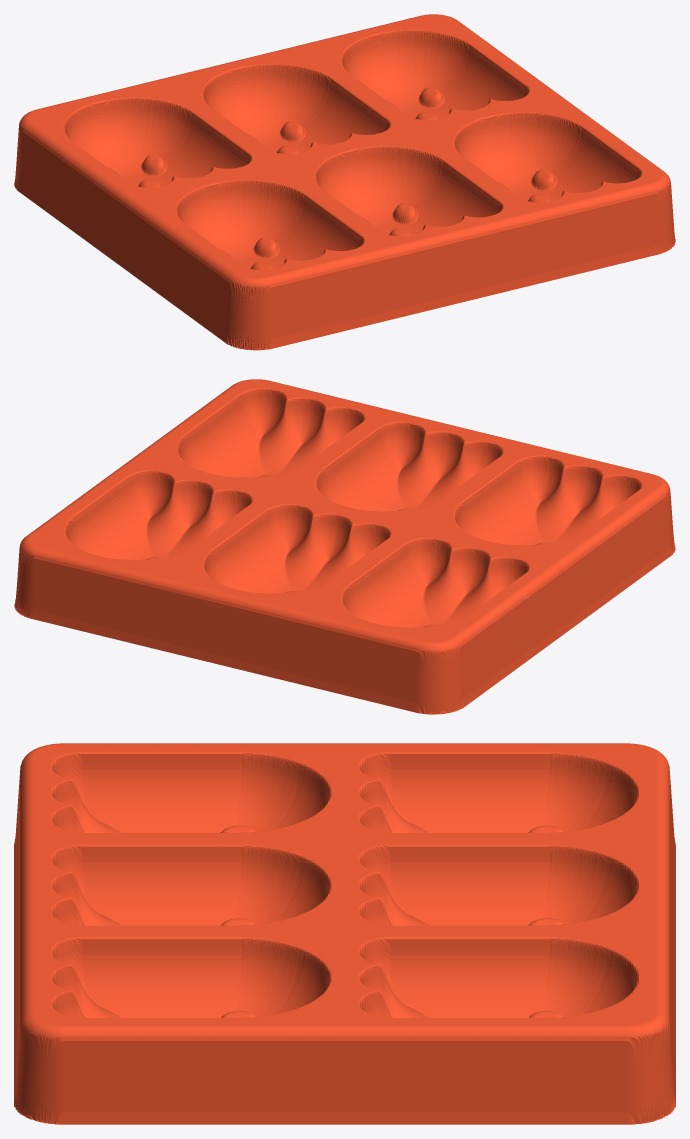
File: mold.glb
3 views of the same model, one above another, from view 1: azimuth 30°, elevation 25°; view 2: azimuth 150°, elevation 25°; view 3: azimuth 270°, elevation 25° (orthographic). The views are drawn at different scales.
Visible parts, largest first — view 1: geometry_0; view 2: geometry_0; view 3: geometry_0.
Boxes of the visible parts, x1,y1,x2,y2 form: geometry_0: (14, 14, 675, 350); geometry_0: (14, 379, 675, 714); geometry_0: (14, 743, 675, 1124).
Bounding box in the file's own units: 0.13 × 0.0185 × 0.1222.
